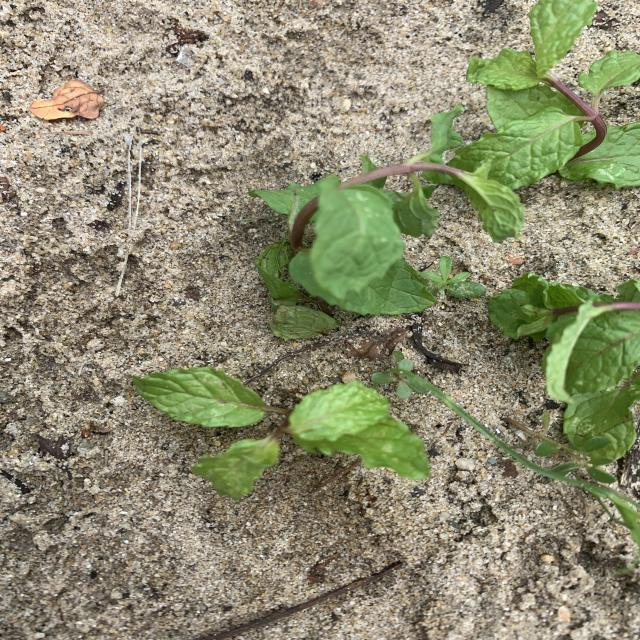crop: (250, 105, 524, 338), (133, 367, 429, 499), (450, 0, 640, 190), (488, 274, 638, 459)
weed: (420, 376, 638, 546), (371, 351, 429, 399), (423, 257, 485, 298)
